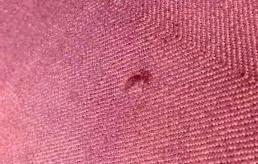knot: (118, 70, 158, 97)
